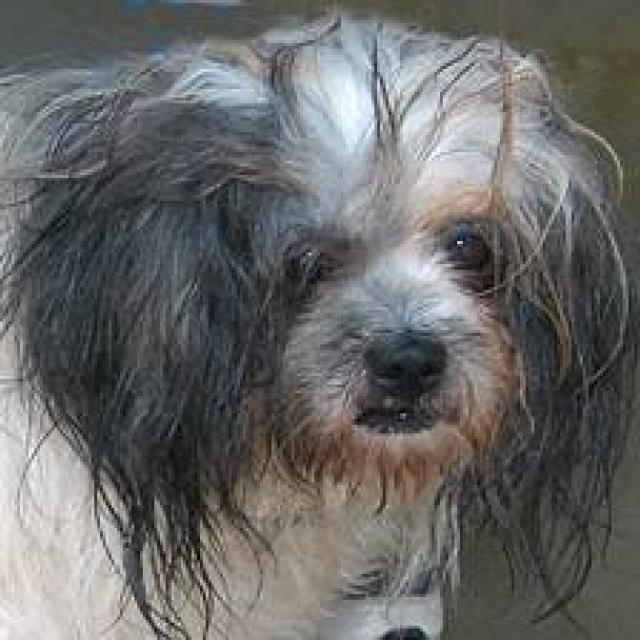dog: (0, 9, 637, 637)
